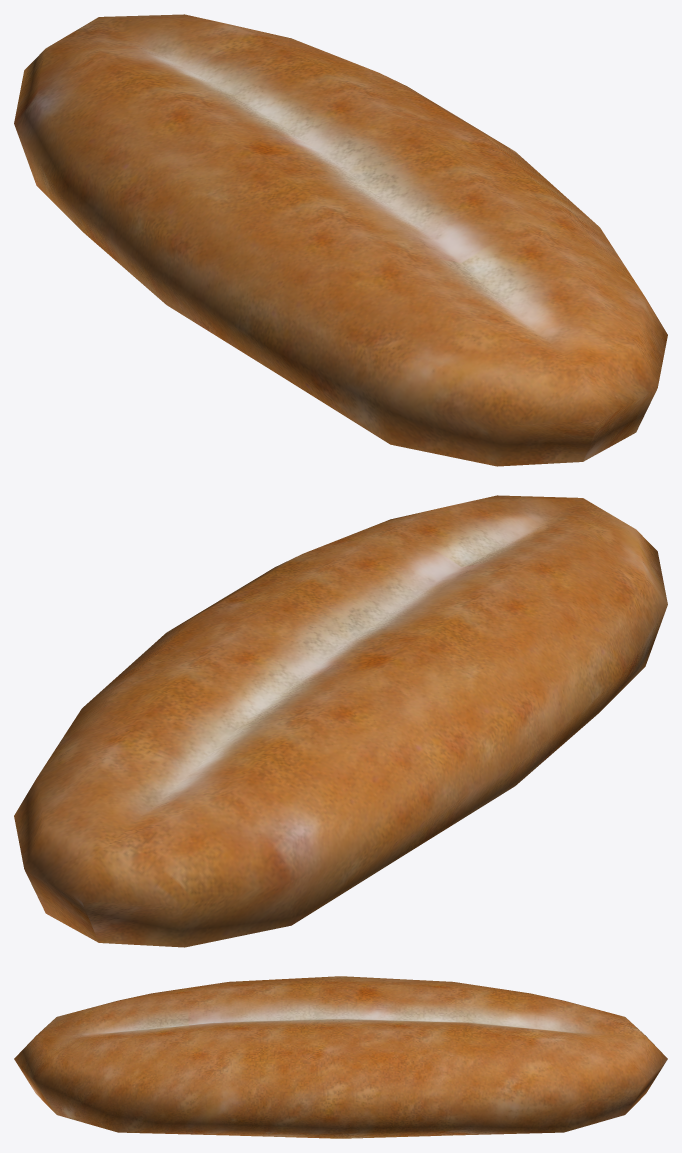
Rendered from bread.fbx.
The picture shows the model from 3 angles, top to bottom: view 1: azimuth 30°, elevation 25°; view 2: azimuth 150°, elevation 25°; view 3: azimuth 270°, elevation 25°; orthographic projection. The views are drawn at different scales.
Parts seen in each view (by area): view 1: bread_msh; view 2: bread_msh; view 3: bread_msh.
Part boxes in pixels (x1,y1,x2,y2): bread_msh: (14, 14, 667, 466); bread_msh: (14, 495, 667, 947); bread_msh: (14, 976, 667, 1138).
Size of the model in its own units: 1.95 by 0.7271 by 4.69.
